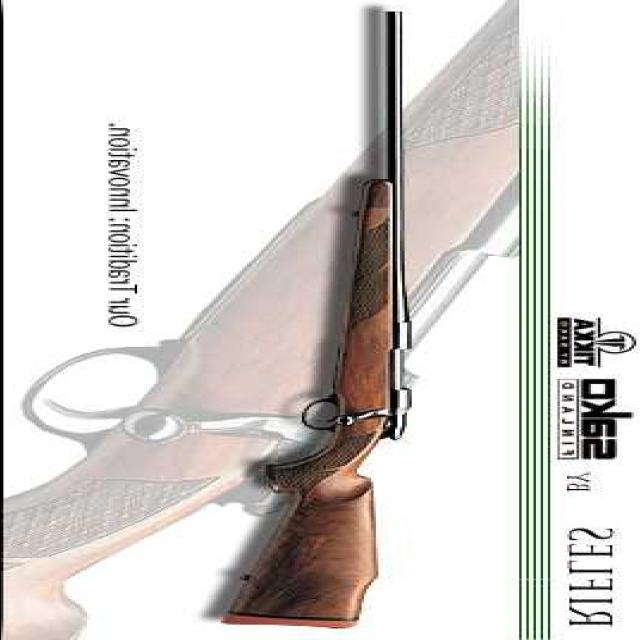heavyweapon: (223, 5, 445, 629)
